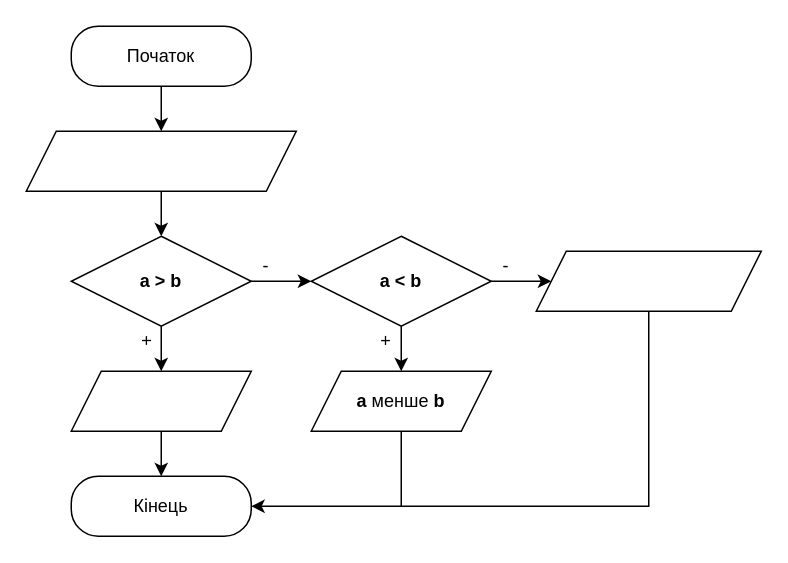
The diagram is 788 pixels wide and 563 high, and some of its shapes have lost their labels. The box of each missing label's shape, as (x1, y1, x2, y2) in pixels:
a більше b: (70, 370, 251, 431)
a рівне b: (535, 250, 761, 311)
Ввести значення a , b: (25, 130, 296, 191)
